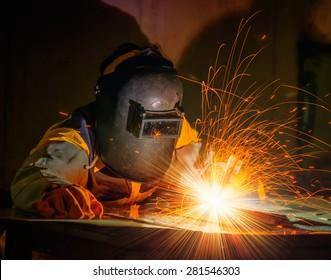gloves: (36, 182, 105, 221)
